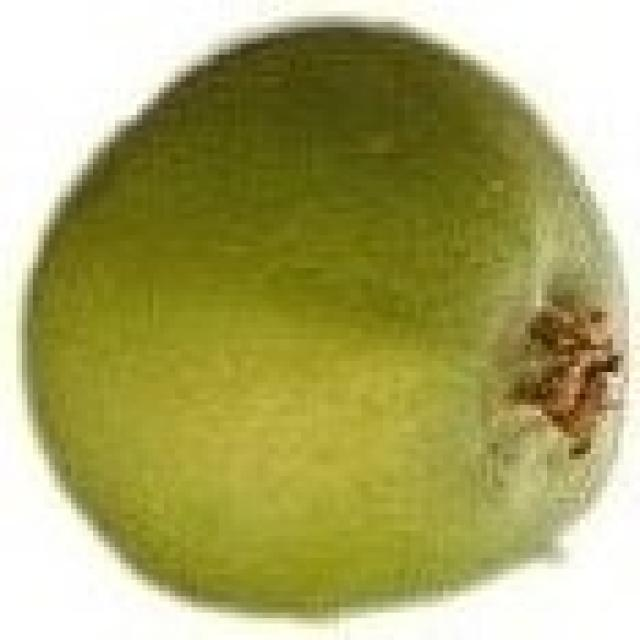50-_ripeness: (24, 17, 627, 610)
